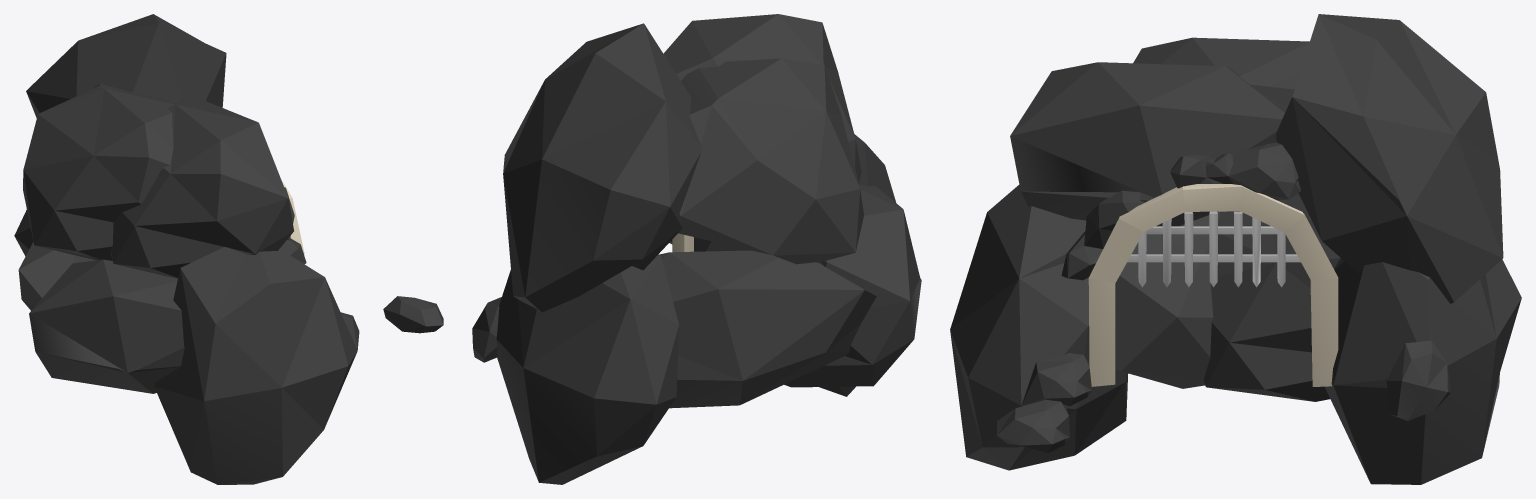
File: Start.fbx
3 views of the same model, side by side, from view 1: azimuth 30°, elevation 25°; view 2: azimuth 150°, elevation 25°; view 3: azimuth 270°, elevation 25° (orthographic). The views are drawn at different scales.
Parts seen in each view (by area): view 1: Start; view 2: Start; view 3: Start.
Part boxes in pixels (<box>): Start: <box>14,14,443,484</box>; Start: <box>472,14,921,484</box>; Start: <box>950,14,1521,484</box>.
Size of the model in its own units: 142 by 145 by 159.
